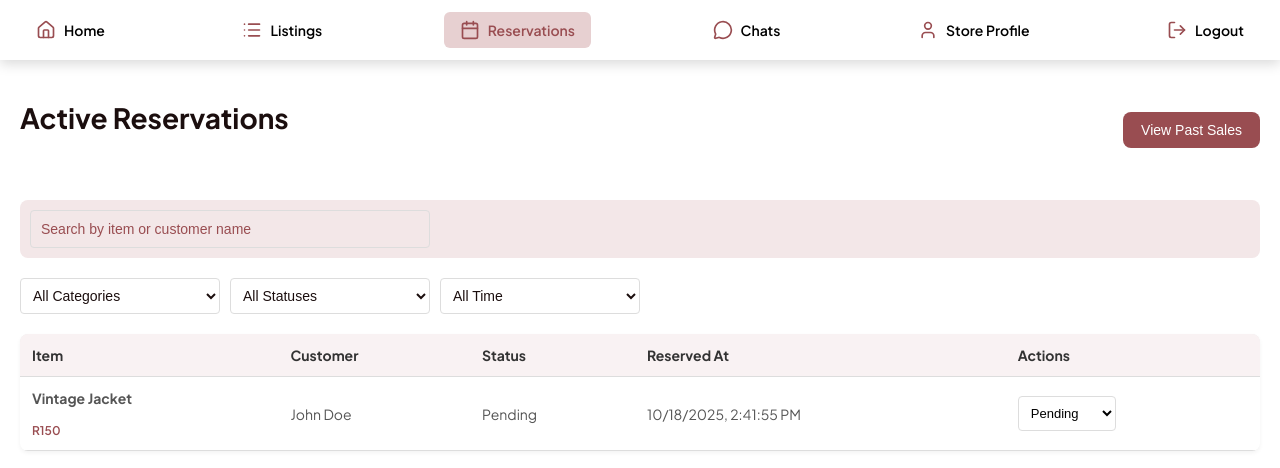
Scenario: StoreReservations › Search and Filtering › filters by status
Expected: the text "Vintage Jacket" is shown, [32,389,132,407]
Step 1. Select "Confirmed" in the 2nd dropdown showing "All Statuses" → (330, 296), box [230,278,430,314]
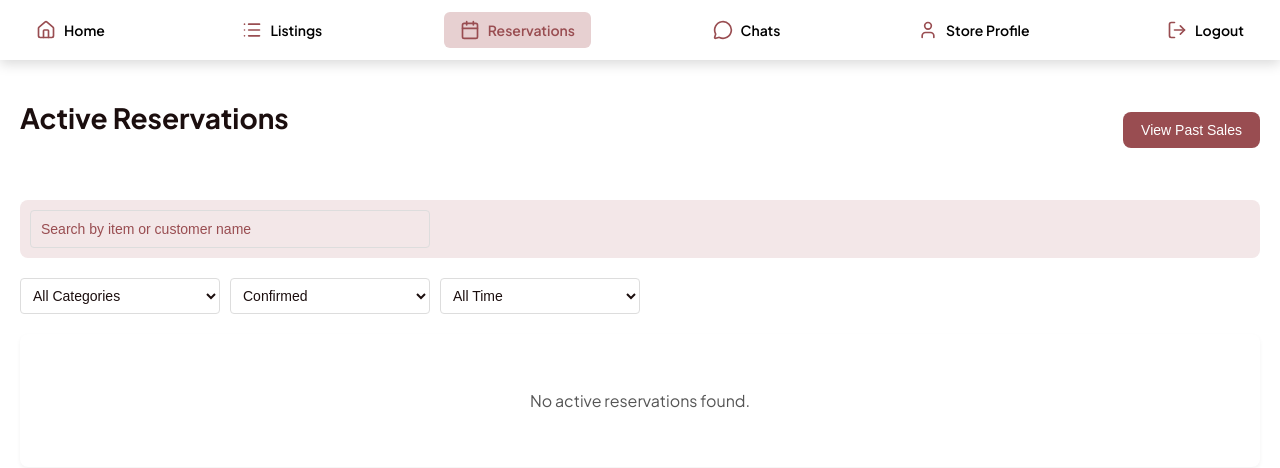
Expected: the text "Vintage Jacket" is not shown
